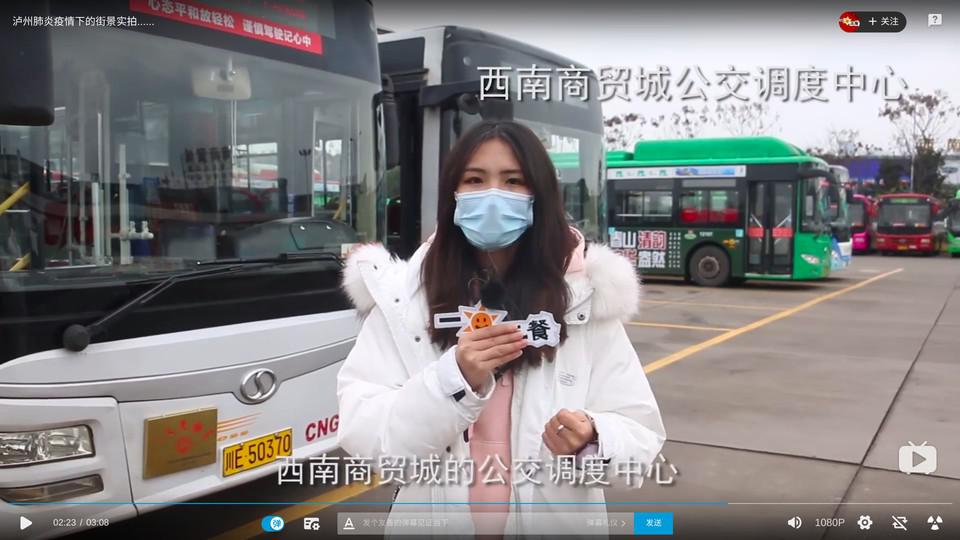OK: (455, 152, 534, 250)
